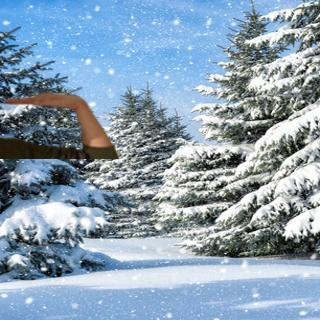WAIT: (4, 89, 82, 112)
